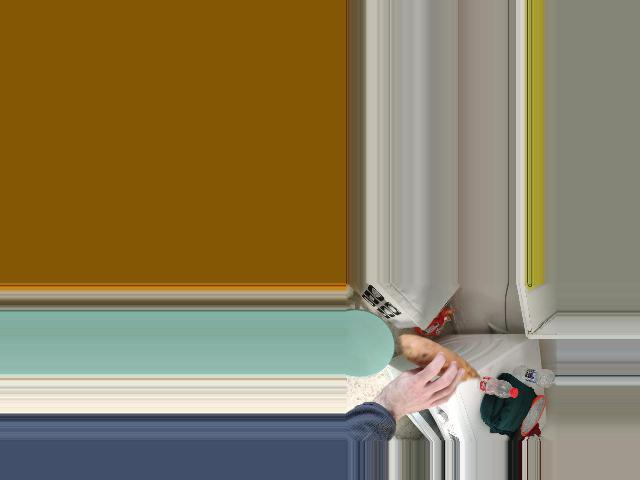sweet_potato: (412, 336, 474, 394)
